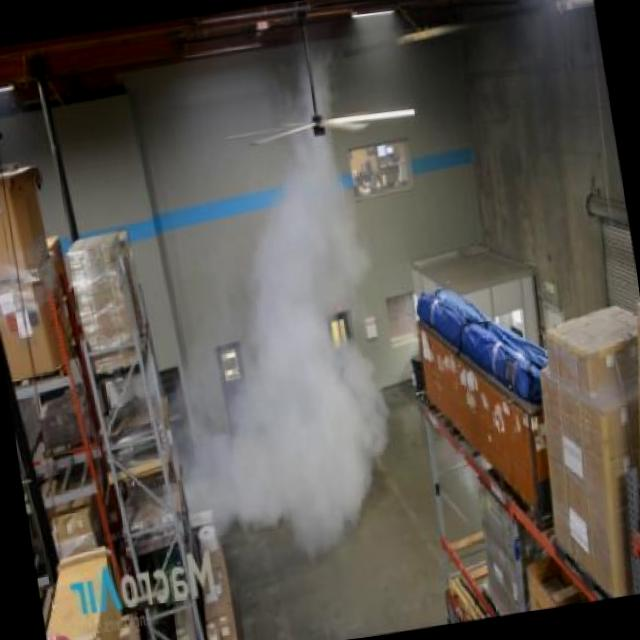smoke: (184, 129, 398, 558)
